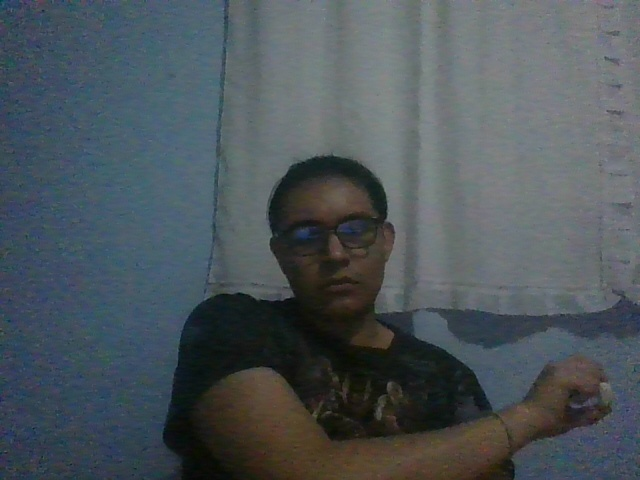goma: (598, 382, 613, 406)
